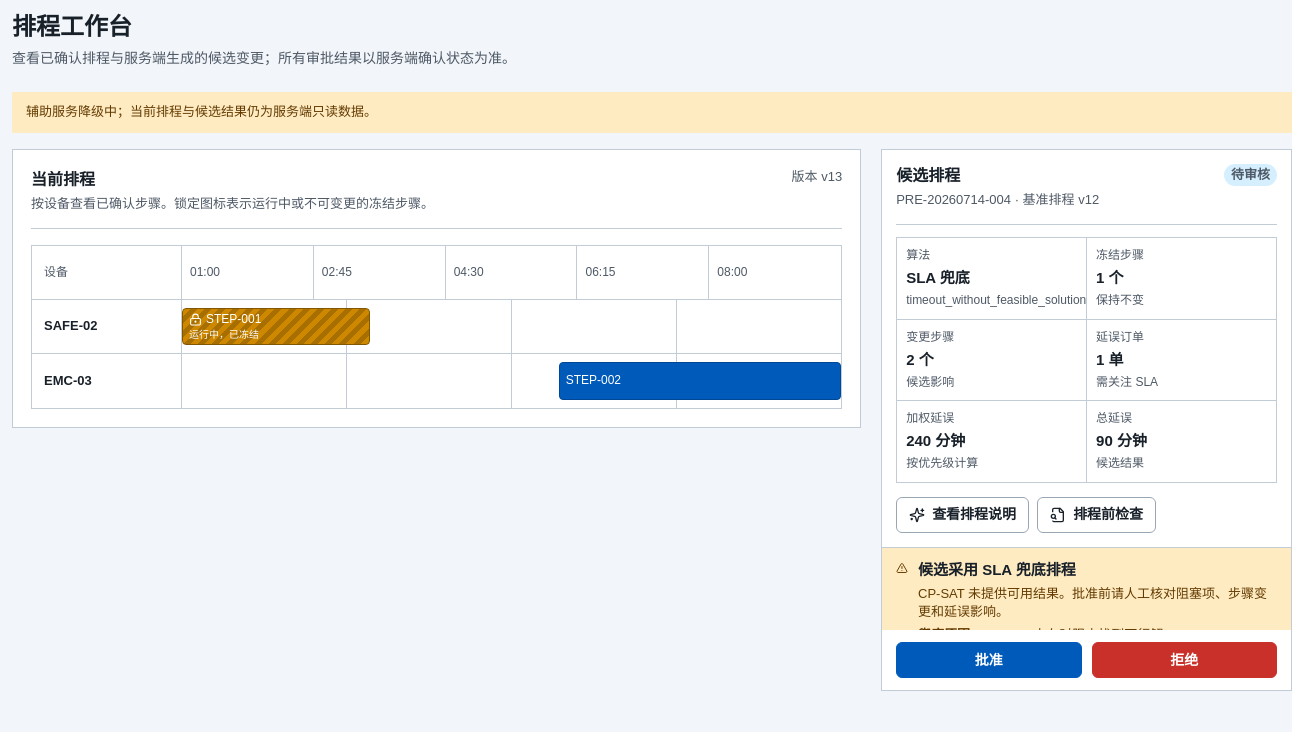
Test: SchedulingPage › shows an explanation and deterministic preflight without exposing a rebuild action
The width and height of the screenshot is (1292, 732).
Click the button "查看排程说明" at {"x": 963, "y": 515}, box [896, 497, 1029, 533]
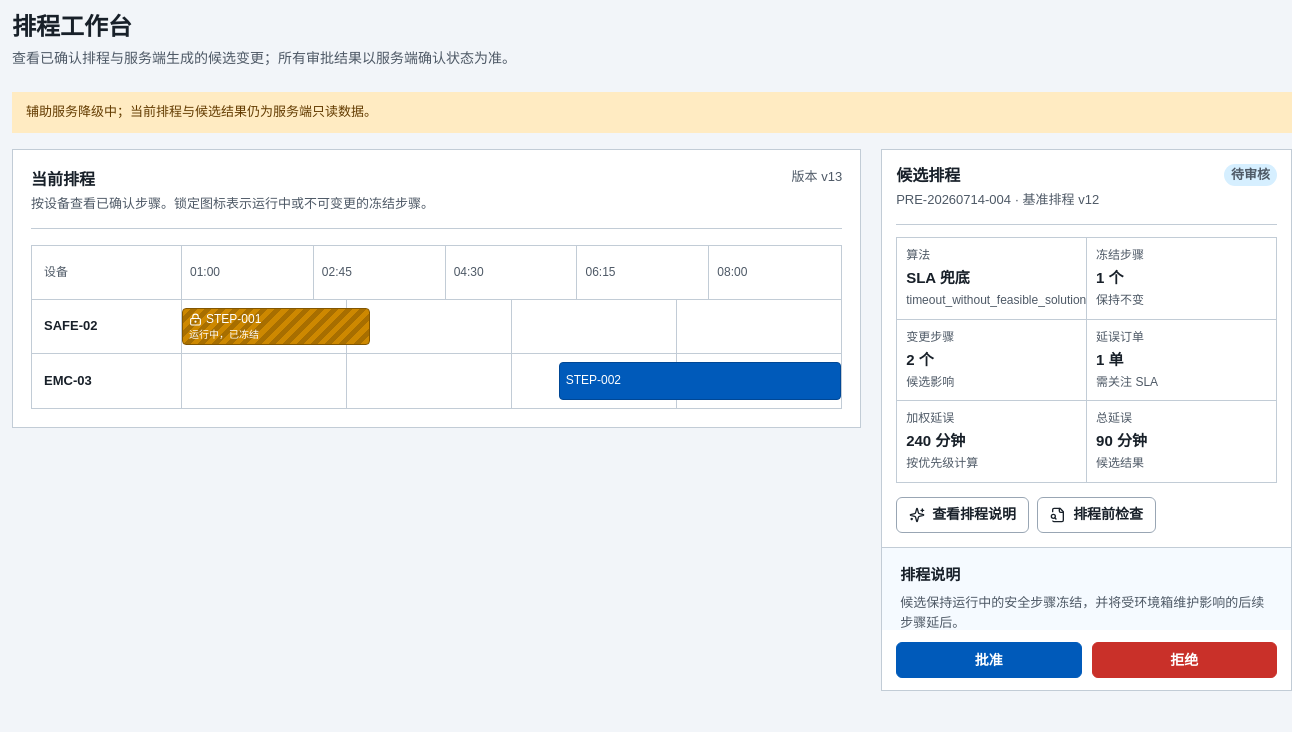
Now the text "候选保持运行中的安全步骤冻结，并将受环境箱维护影响的后续步骤延后。" is shown, box [900, 593, 1273, 630]
Click the button "排程前检查" at {"x": 1097, "y": 515}, box [1037, 497, 1156, 533]
(page scrolled)
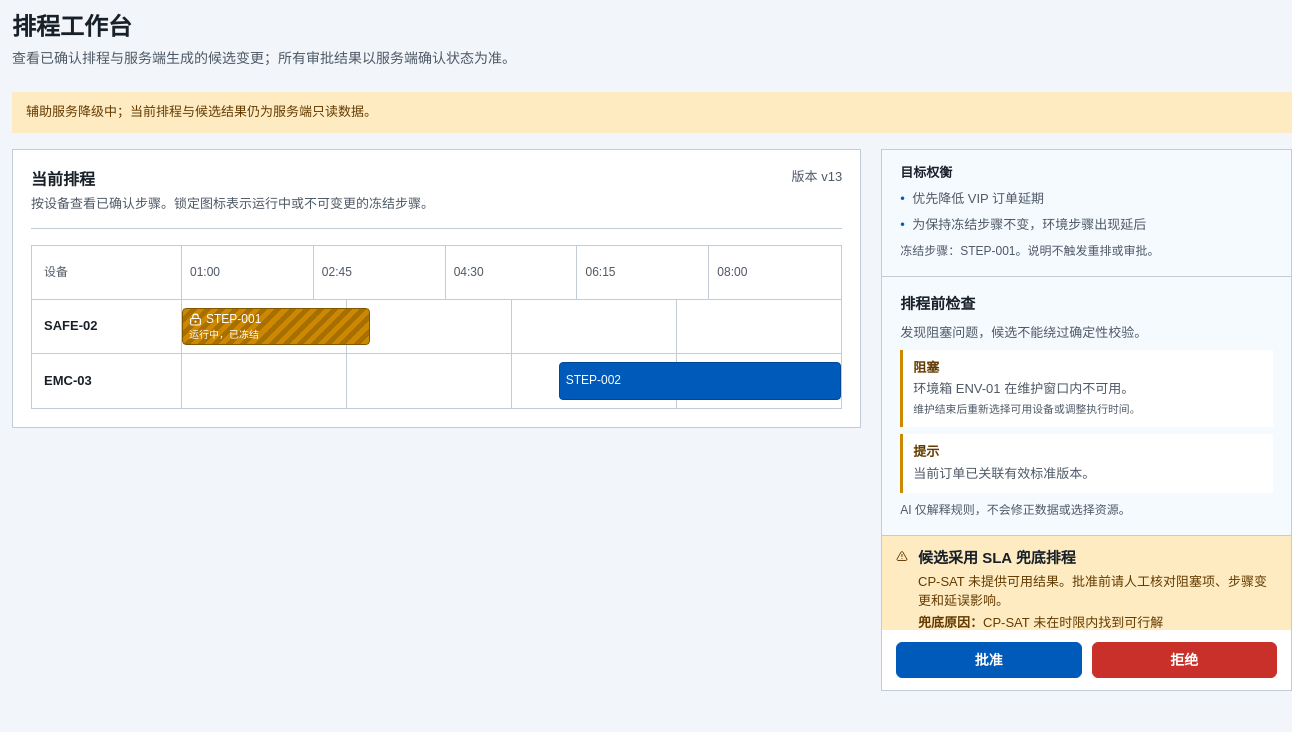
Expected: the heading "排程前检查" is shown, [900, 295, 975, 312]
Now the text "环境箱 ENV-01 在维护窗口内不可用。" is shown, box [913, 382, 1134, 396]
